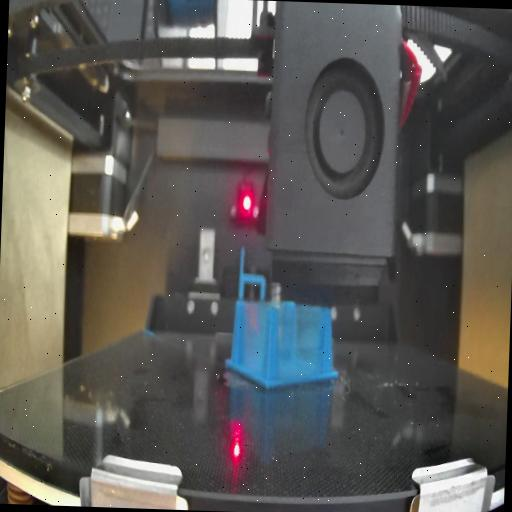stringing: (274, 300, 324, 384), (238, 304, 267, 380)
